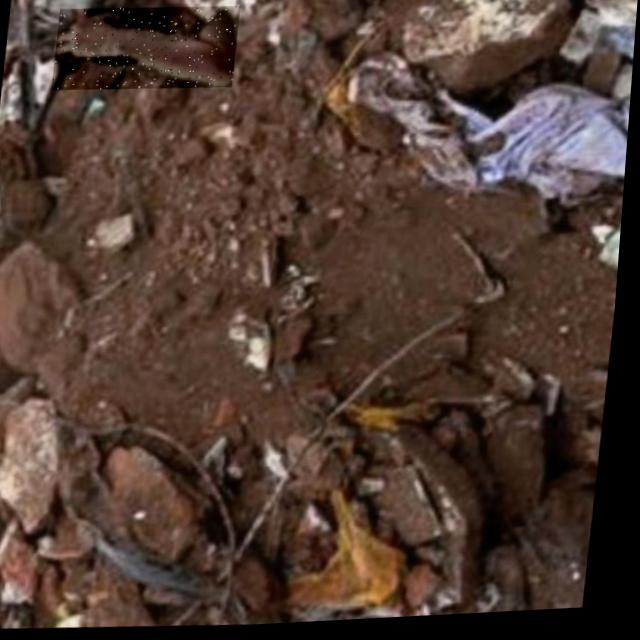Person in Rubble: (52, 1, 241, 96)
